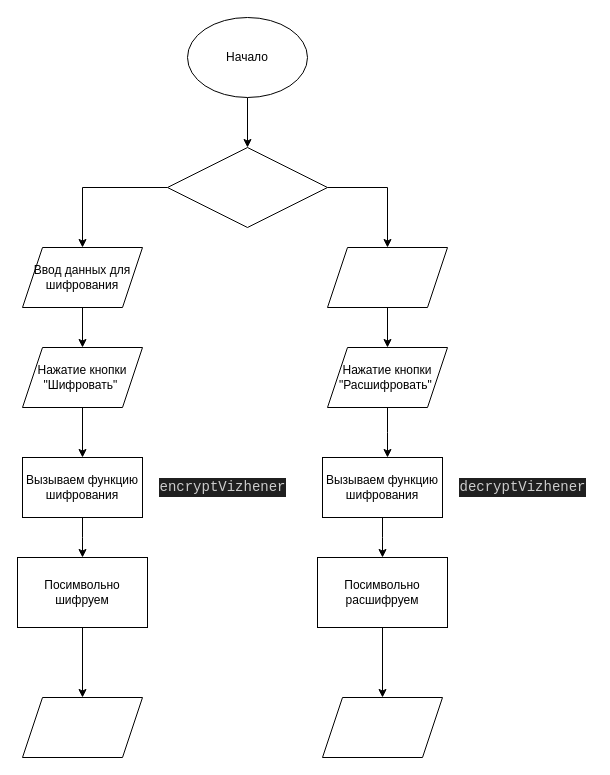
This 610x775 diagram has some shape labels left out. The centre of each missing label's shape, as x and y in pixels:
"Ввод данных для расшифрования" goes at (387,277).
"Выбор дальнейшего действия" goes at (247,187).
"Выводим зашифрованное сообщение" goes at (82,727).
"Выводим расшифрованное сообщение" goes at (382,727).
